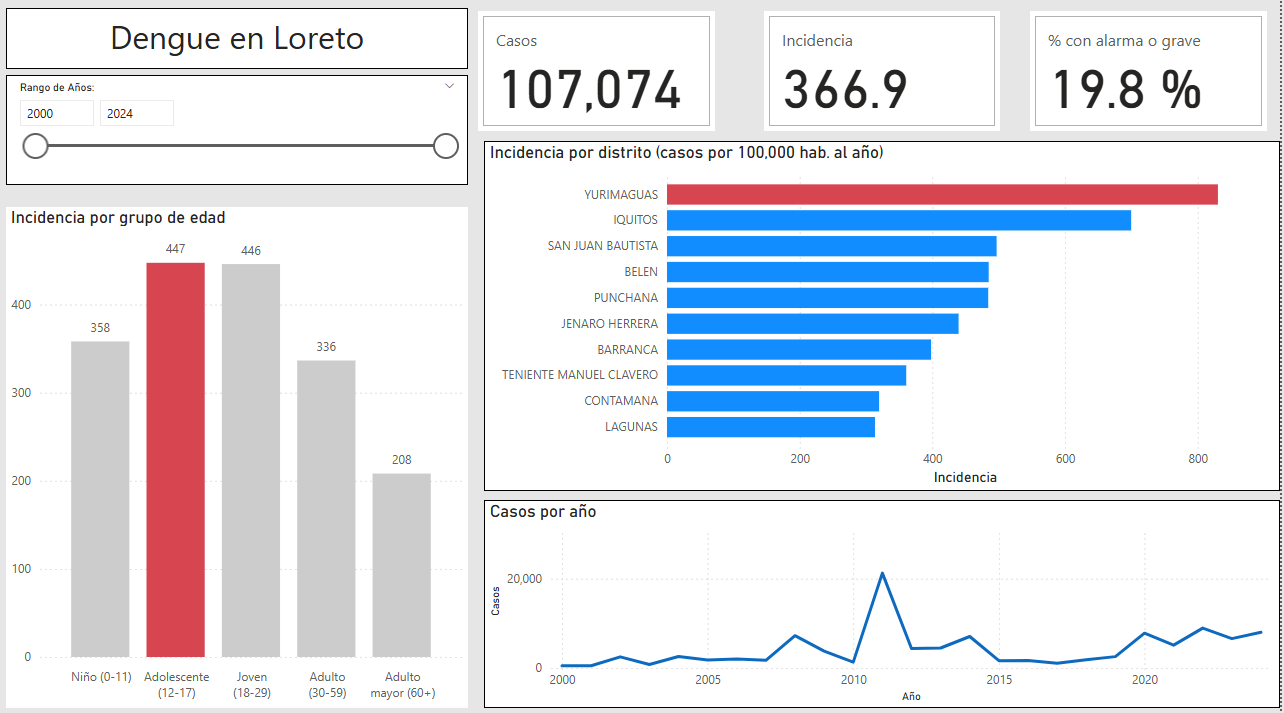

This screenshot's page, from the dashboard's own definition file:
{"tool":"powerbi","page":{"name":"INICIO","canvas":[1280,720],"ordinal":0},"visuals":[{"type":"slicer","fields":{"Values":["Anios.ano"]},"box":[6.3,75.3,461.6,109.7],"z":0},{"type":"textbox","box":[6.3,8.2,461.6,60.8],"z":1000},{"type":"lineChart","title":"Casos por año","fields":{"Category":["Anios.ano"],"Y":["casos.Casos"]},"box":[484.2,499.6,796.2,208.6],"z":2000},{"type":"clusteredBarChart","title":"Incidencia por distrito (casos por 100,000 hab. al año)","fields":{"Category":["poblacion.distrito"],"Y":["casos.Incidencia"]},"box":[484.2,141.5,796.2,350],"z":3000},{"type":"cardVisual","fields":{"Data":["casos.Casos"]},"box":[477.9,10.9,236.7,119.7],"z":4000},{"type":"cardVisual","fields":{"Data":["casos.Incidencia"]},"box":[763.5,10.9,236.7,119.7],"z":5000},{"type":"cardVisual","fields":{"Data":["casos.% con alarma o grave"]},"box":[1030.1,10.9,236.7,119.7],"z":6000},{"type":"clusteredColumnChart","title":"Incidencia por grupo de edad","fields":{"Category":["poblacion_edad.grupo_edad"],"Y":["casos.Incidencia por edad"]},"box":[6.3,206.8,461.6,501.5],"z":7000}]}

Visuals, with their boxes in screenshot pixels (x1, y1, x2, y2), scaled from the page's 1280x720 canvas onto the 1284x713 screenshot:
slicer - Anios.ano: locate(6, 75, 469, 183)
textbox: locate(6, 8, 469, 68)
"Casos por año" lineChart: locate(486, 495, 1283, 701)
"Incidencia por distrito (casos por 100,000 hab. al año)" clusteredBarChart: locate(486, 140, 1283, 487)
cardVisual - casos.Casos: locate(479, 11, 717, 129)
cardVisual - casos.Incidencia: locate(766, 11, 1003, 129)
cardVisual - casos.% con alarma o grave: locate(1033, 11, 1271, 129)
"Incidencia por grupo de edad" clusteredColumnChart: locate(6, 205, 469, 701)
